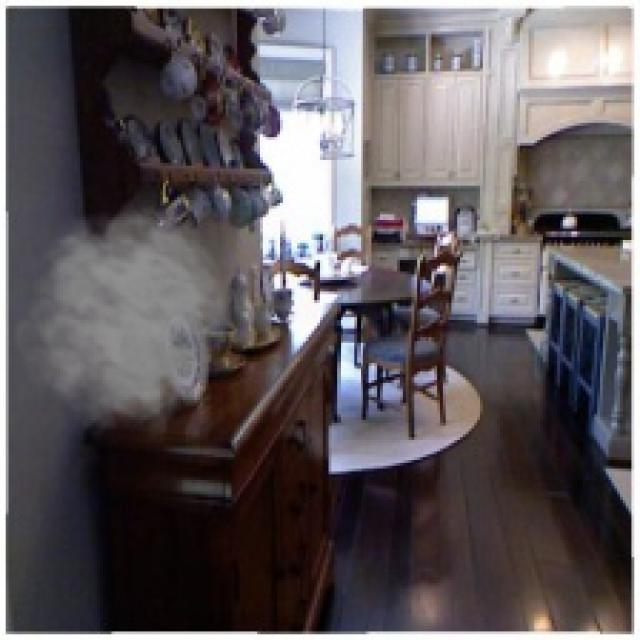smoke: (12, 200, 235, 443)
